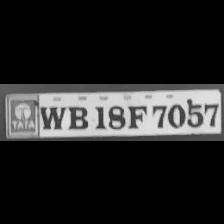0: (166, 100, 184, 127)
1: (90, 99, 106, 129)
5: (184, 98, 204, 128)
7: (149, 100, 167, 128), (203, 99, 221, 127)
8: (104, 101, 125, 129)
B: (64, 101, 90, 129)
F: (127, 101, 148, 128)
W: (38, 101, 62, 129)
